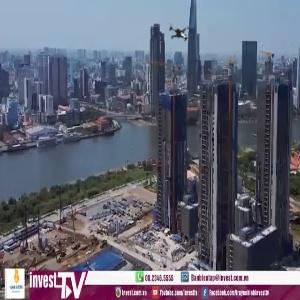drone: (154, 11, 204, 61)
